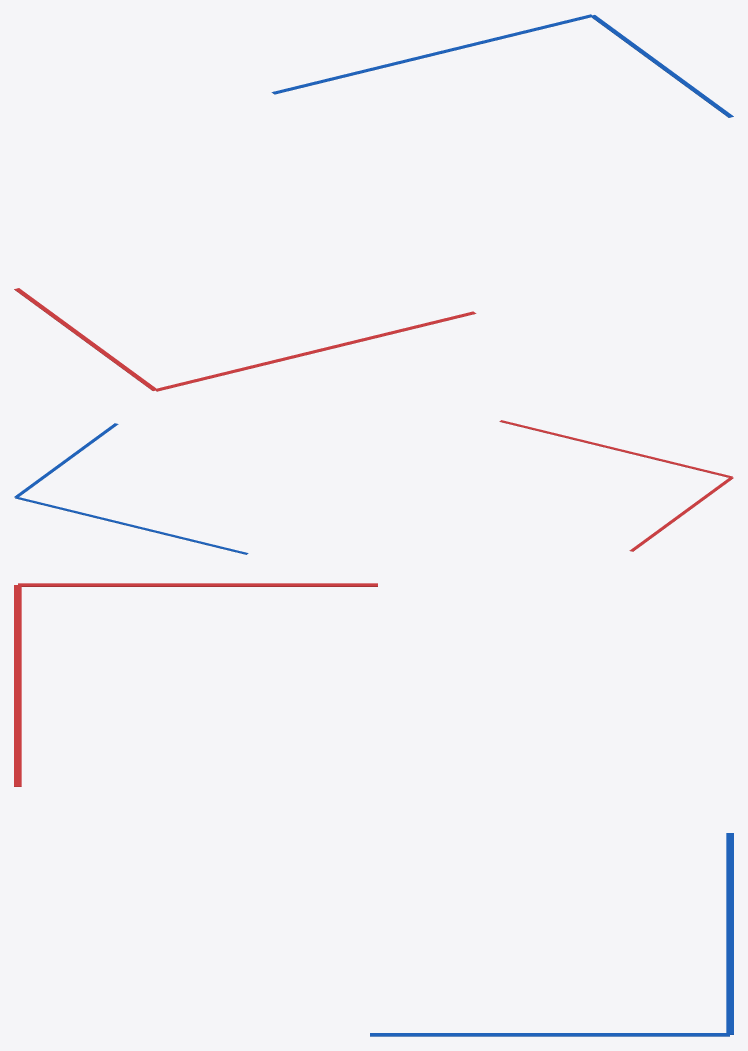
The picture shows the model from 3 angles, top to bottom: view 1: azimuth 30°, elevation 25°; view 2: azimuth 150°, elevation 25°; view 3: azimuth 270°, elevation 25°; orthographic projection. The views are drawn at different scales.
Bounding box in the file's own units: 139 × 0.05 × 93.44.
Materials: 2 (2 with a texture image).
